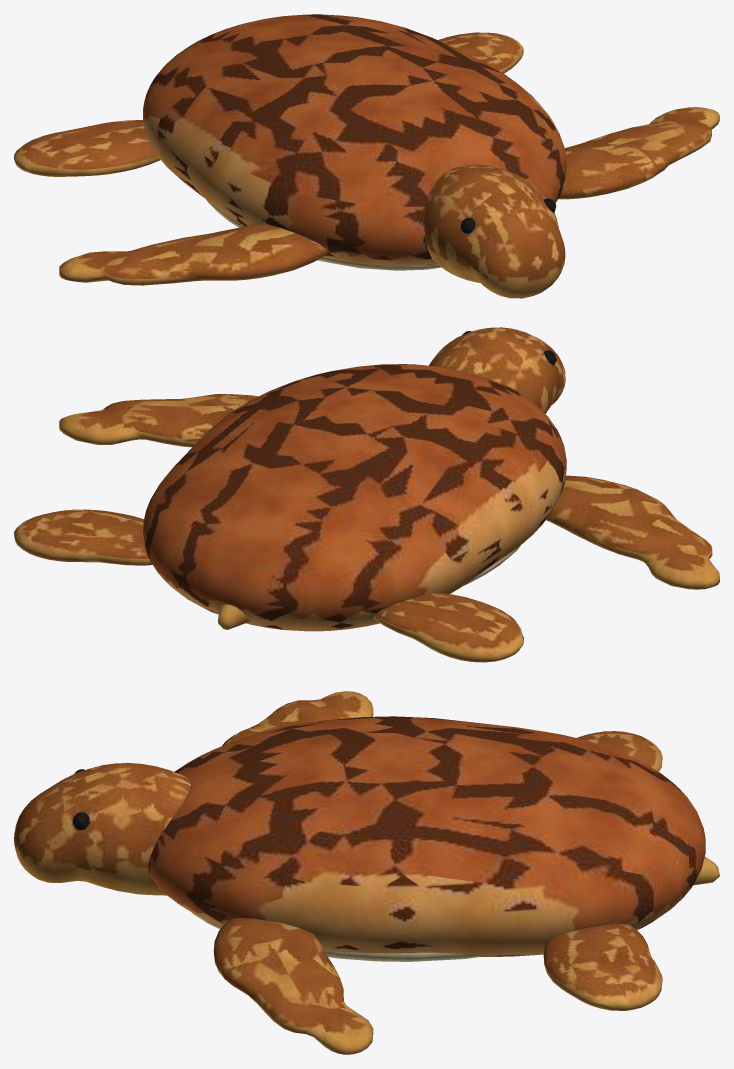
The model's file is sea_turtle.glb.
3 renders of one model, top to bottom at view 1: azimuth 30°, elevation 25°; view 2: azimuth 150°, elevation 25°; view 3: azimuth 270°, elevation 25°, orthographic. The views are drawn at different scales.
Visible parts, largest first — view 1: sea_turtle, head, flip0, flip1, flip2, flip3; view 2: sea_turtle, flip0, flip2, flip1, head, flip3; view 3: sea_turtle, head, flip1, flip3, flip0, flip2.
Part boxes in pixels (box(x1,y1,x2,y2)): sea_turtle: box(143, 14, 566, 270); head: box(424, 165, 565, 298); flip0: box(59, 223, 328, 285); flip1: box(558, 107, 719, 199); flip2: box(14, 120, 160, 176); flip3: box(438, 32, 523, 73); sea_turtle: box(143, 364, 566, 631); flip0: box(546, 475, 719, 589); flip2: box(373, 592, 523, 662); flip1: box(59, 394, 257, 447); head: box(429, 327, 565, 413); flip3: box(14, 509, 152, 565); sea_turtle: box(148, 716, 719, 961); head: box(14, 762, 190, 895); flip1: box(213, 918, 373, 1054); flip3: box(543, 923, 662, 1010); flip0: box(222, 691, 373, 745); flip2: box(577, 731, 662, 771).
Size of the model in its own units: 0.6298 by 0.1383 by 0.5267.
Materials: 1 (1 with a texture image).
